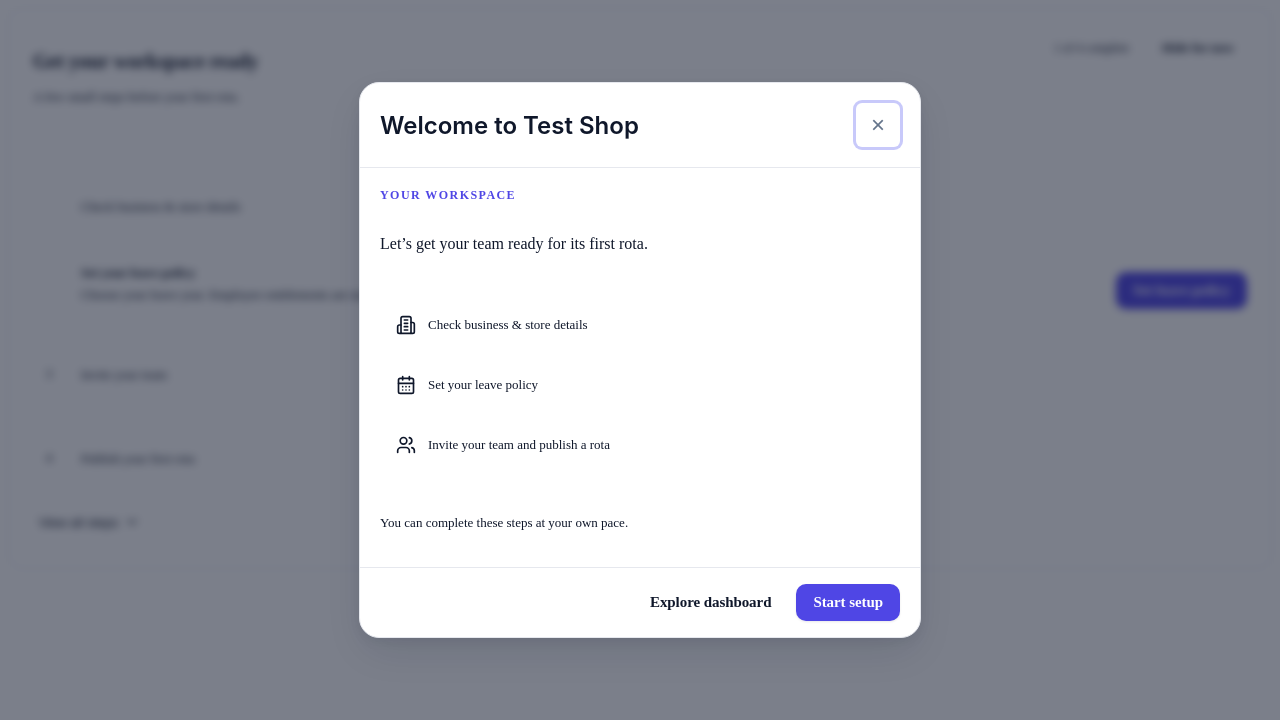
Test: Explore dashboard dismisses the welcome without hiding guidance
Expected: the dialog is shown, x1=359 y1=82 x2=921 y2=638
Click the button "Explore dashboard" at (711, 602), box x1=633 y1=584 x2=788 y2=621
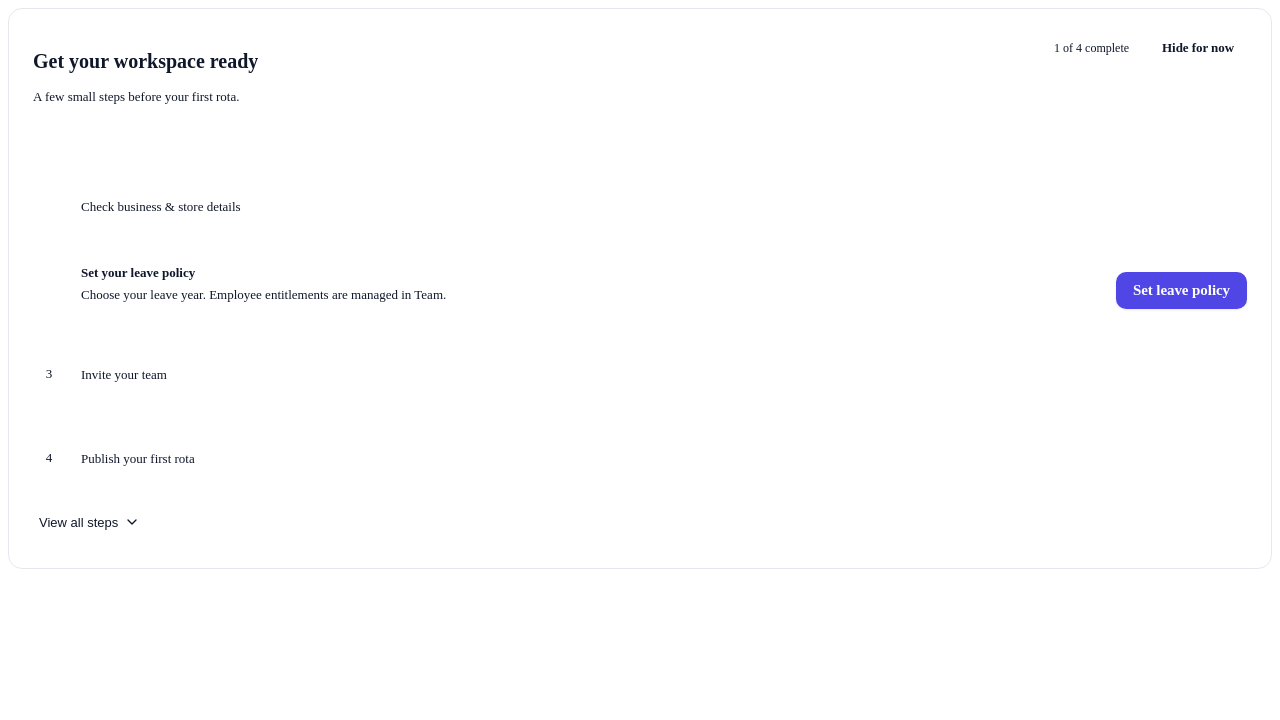
Now the dialog is gone
